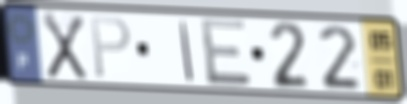2: (316, 24, 365, 92), (266, 20, 311, 90)
E: (197, 16, 254, 88)
I: (177, 18, 196, 84)
P: (88, 14, 133, 81)
X: (40, 9, 89, 82)
